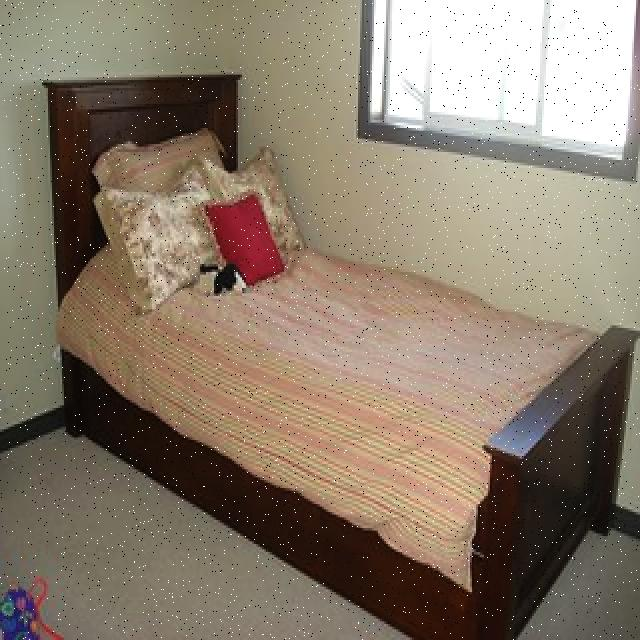bed: (57, 124, 606, 584)
